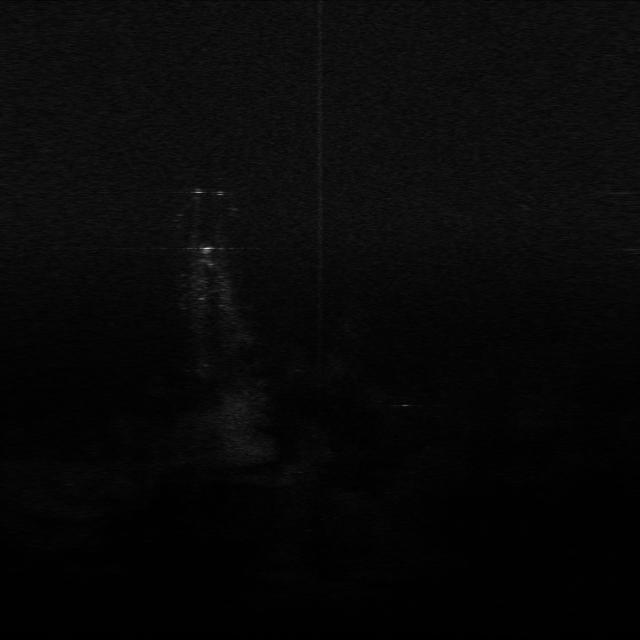rov: (193, 242, 218, 258)
